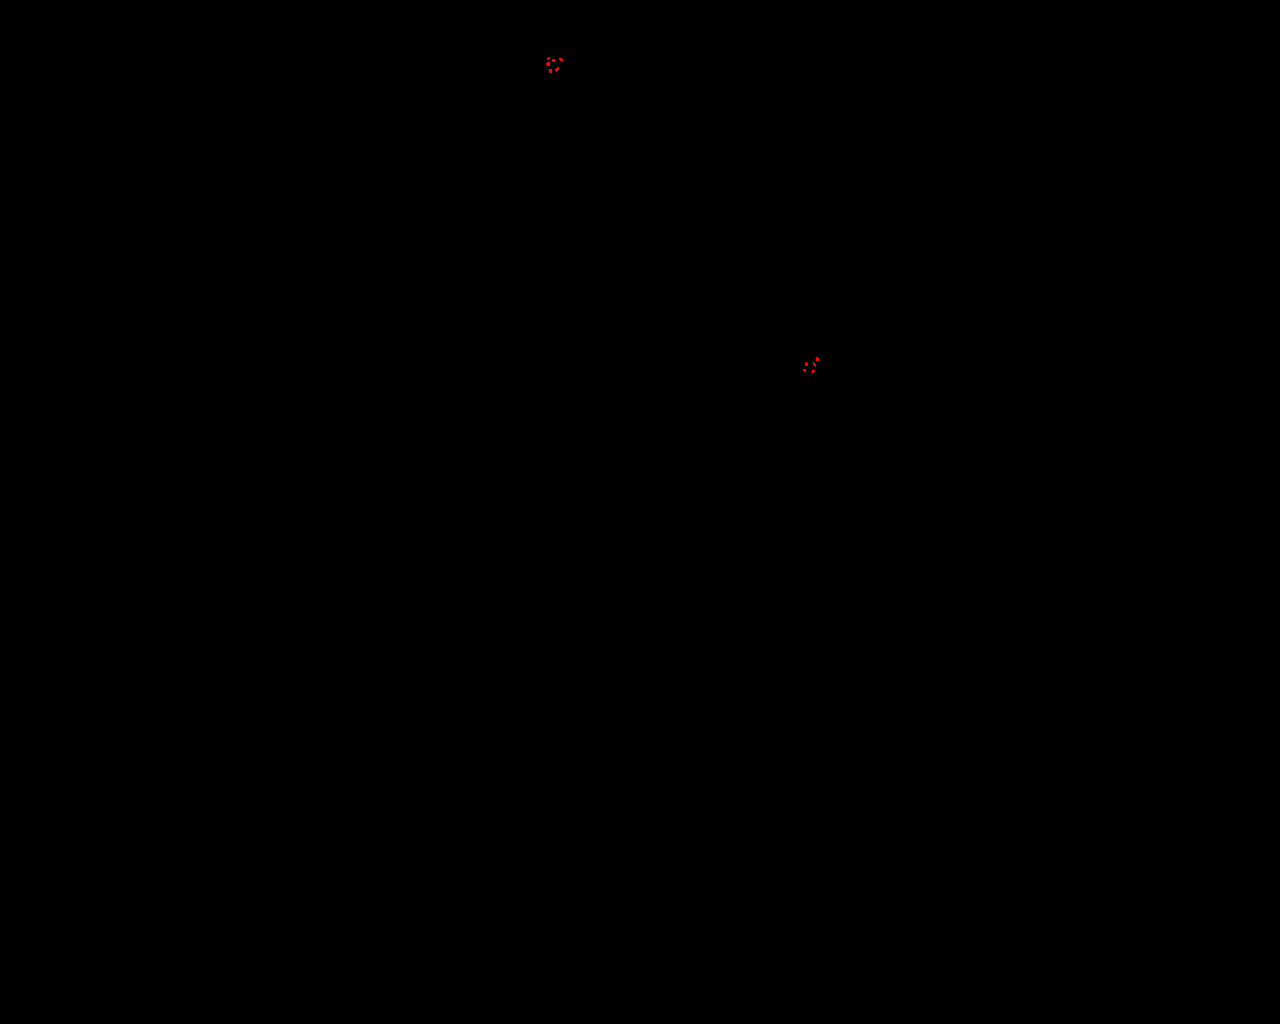Target: (555, 67, 559, 72), (813, 362, 816, 367), (546, 62, 550, 66), (549, 69, 552, 73), (805, 362, 808, 366), (552, 59, 555, 62), (816, 357, 819, 360), (802, 369, 806, 372), (812, 370, 815, 373), (559, 59, 563, 61), (546, 57, 550, 60)
